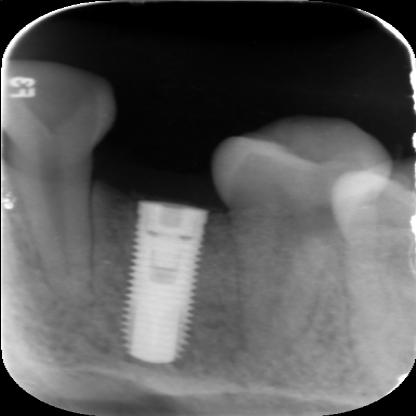Bego: (109, 195, 220, 370)
